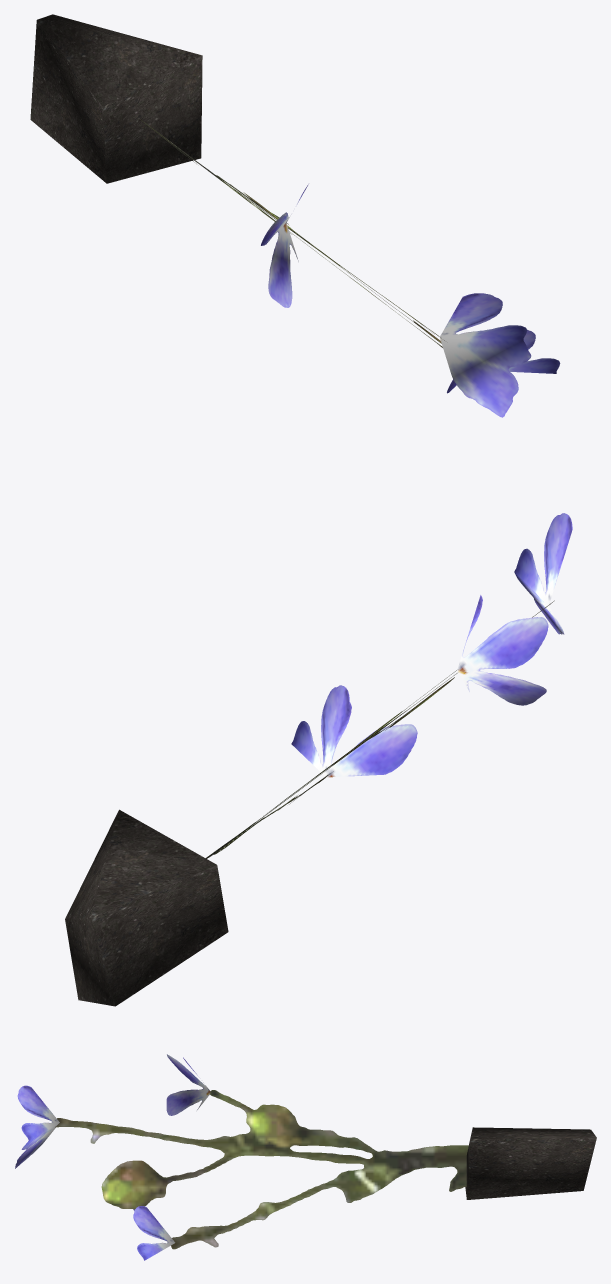
The model's file is com_flower_blue3_LOD1.obj.
The picture shows the model from 3 angles, top to bottom: view 1: azimuth 30°, elevation 25°; view 2: azimuth 150°, elevation 25°; view 3: azimuth 270°, elevation 25°; orthographic projection. The views are drawn at different scales.
Visible parts, largest first — view 1: mtl_plastic_bucket_soil, mtl_gardenflowers; view 2: mtl_plastic_bucket_soil, mtl_gardenflowers; view 3: mtl_gardenflowers, mtl_plastic_bucket_soil.
Boxes of the visible parts, x1,y1,x2,y2 form: mtl_plastic_bucket_soil: (30,14,202,183); mtl_gardenflowers: (138,118,560,417); mtl_plastic_bucket_soil: (65,809,228,1006); mtl_gardenflowers: (206,513,572,858); mtl_gardenflowers: (15,1054,468,1260); mtl_plastic_bucket_soil: (465,1127,596,1199).
Size of the model in its own units: 16.99 by 13.21 by 41.44.
